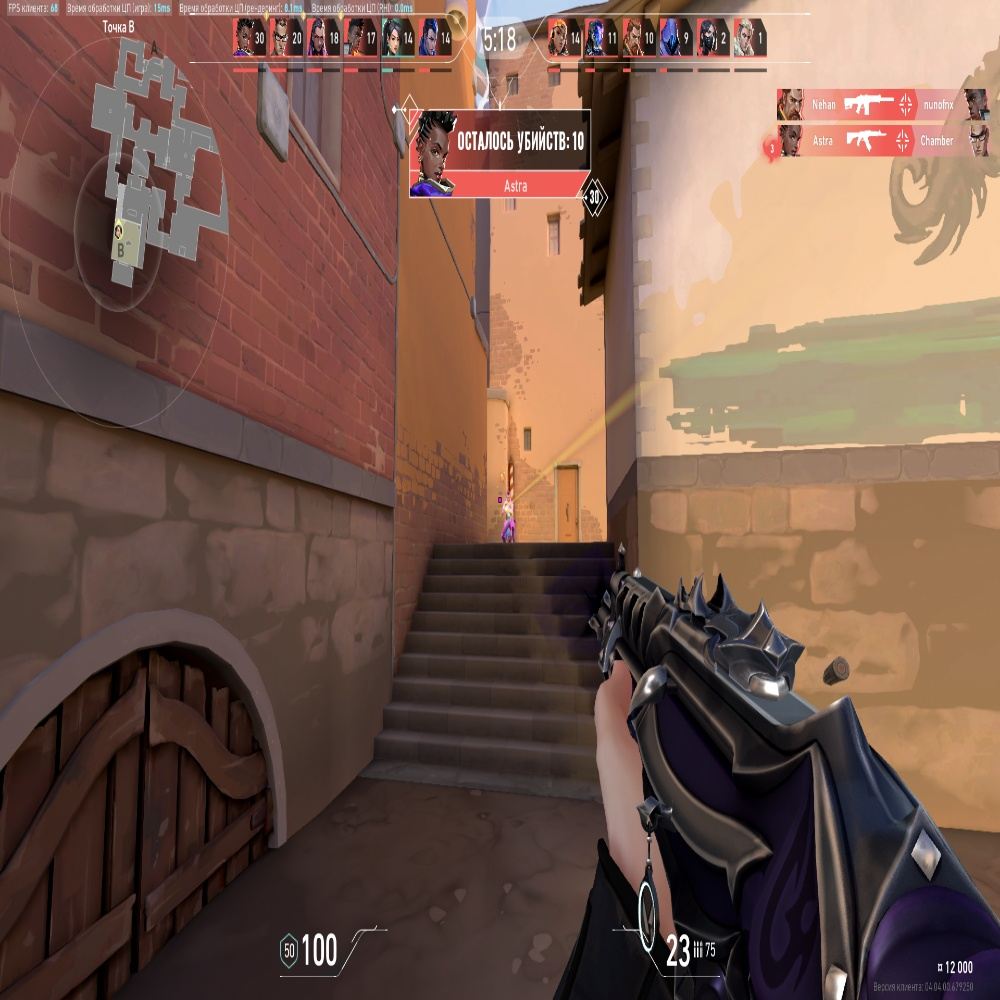body: (503, 503, 514, 524)
head: (506, 492, 510, 503)
